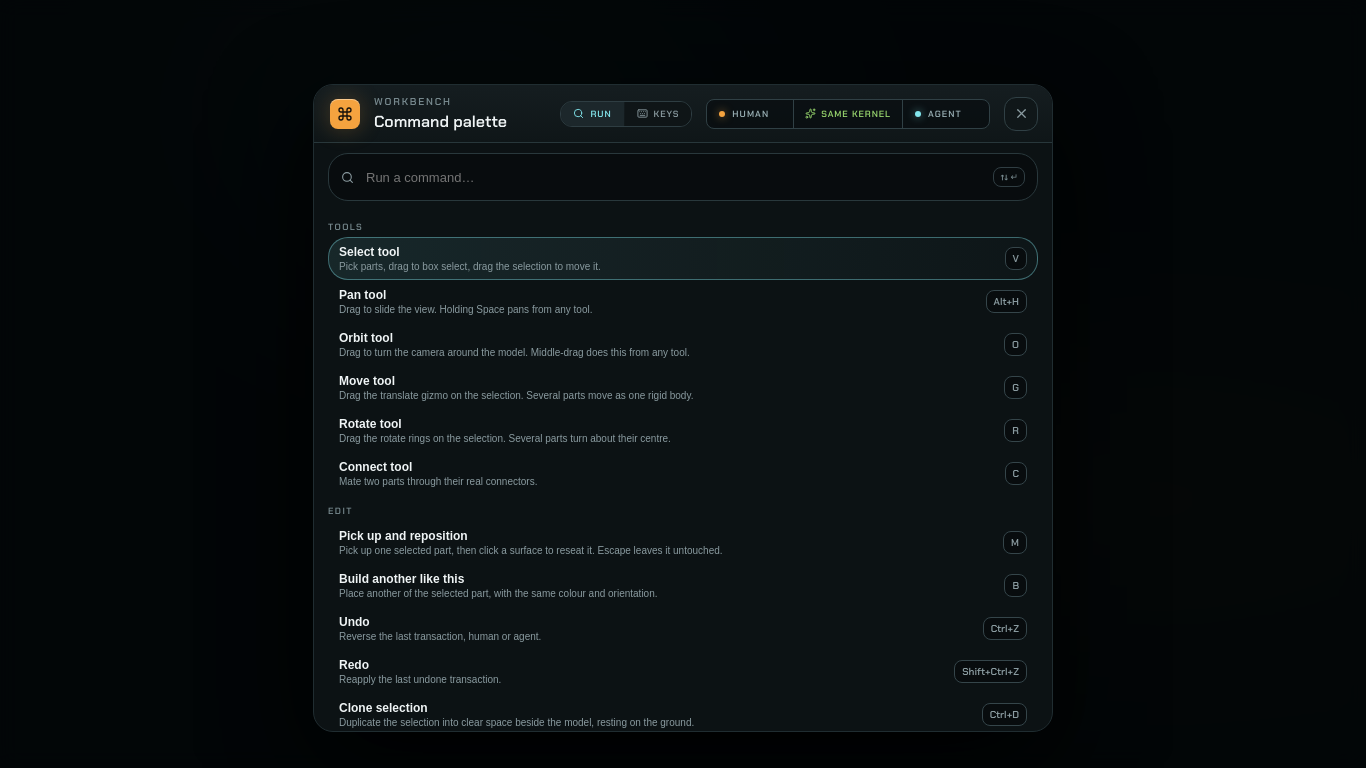
Test case: command palette › finds a shared capability by name and opens its form
This screenshot has width=1366, height=768.
Step 1. Type "linear array" into the dropdown named "Search commands" → (674, 177), box [364,168,983,186]
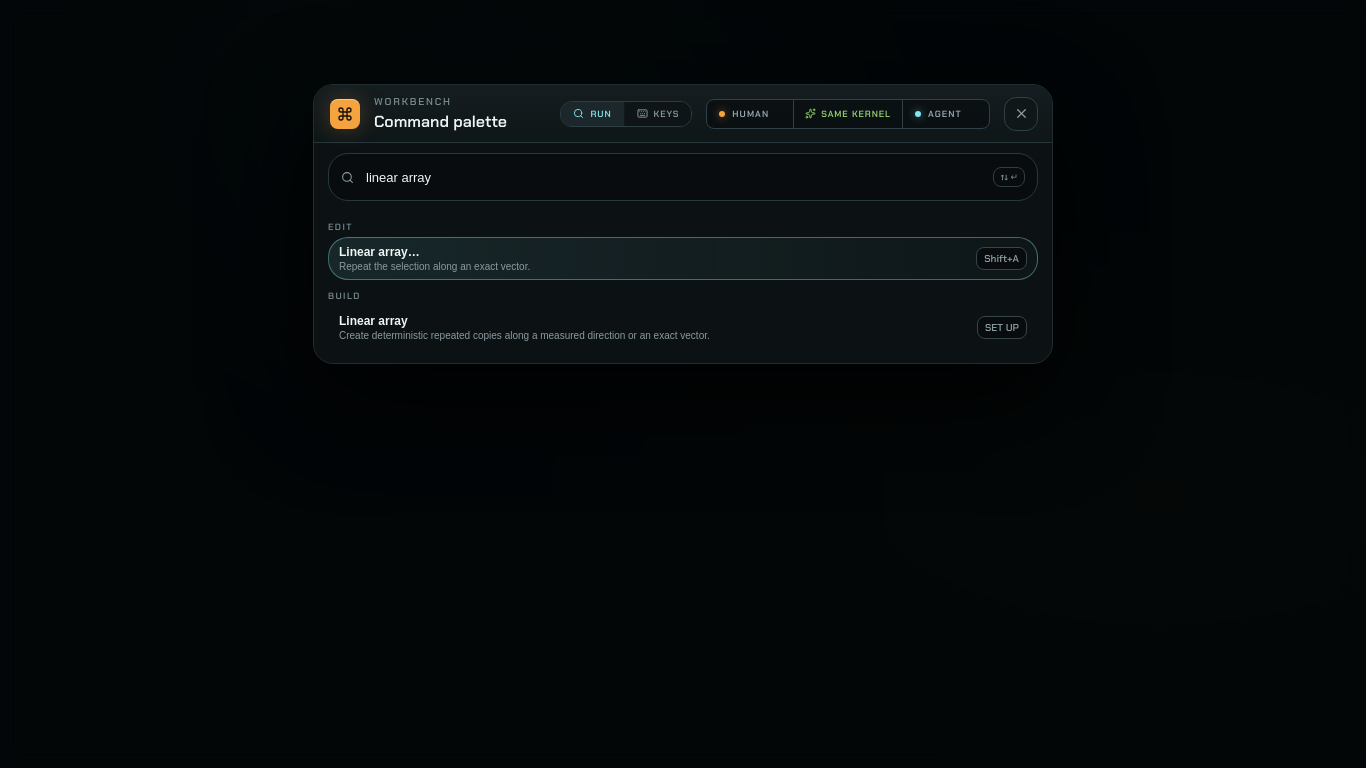
Expected: the option with aria-label "Create deterministic repeated copies along a measured direct" is shown
Step 2. Click the option with aria-label "Create deterministic repeated copies along a measured direct" → (683, 328), box [328,306,1038,349]
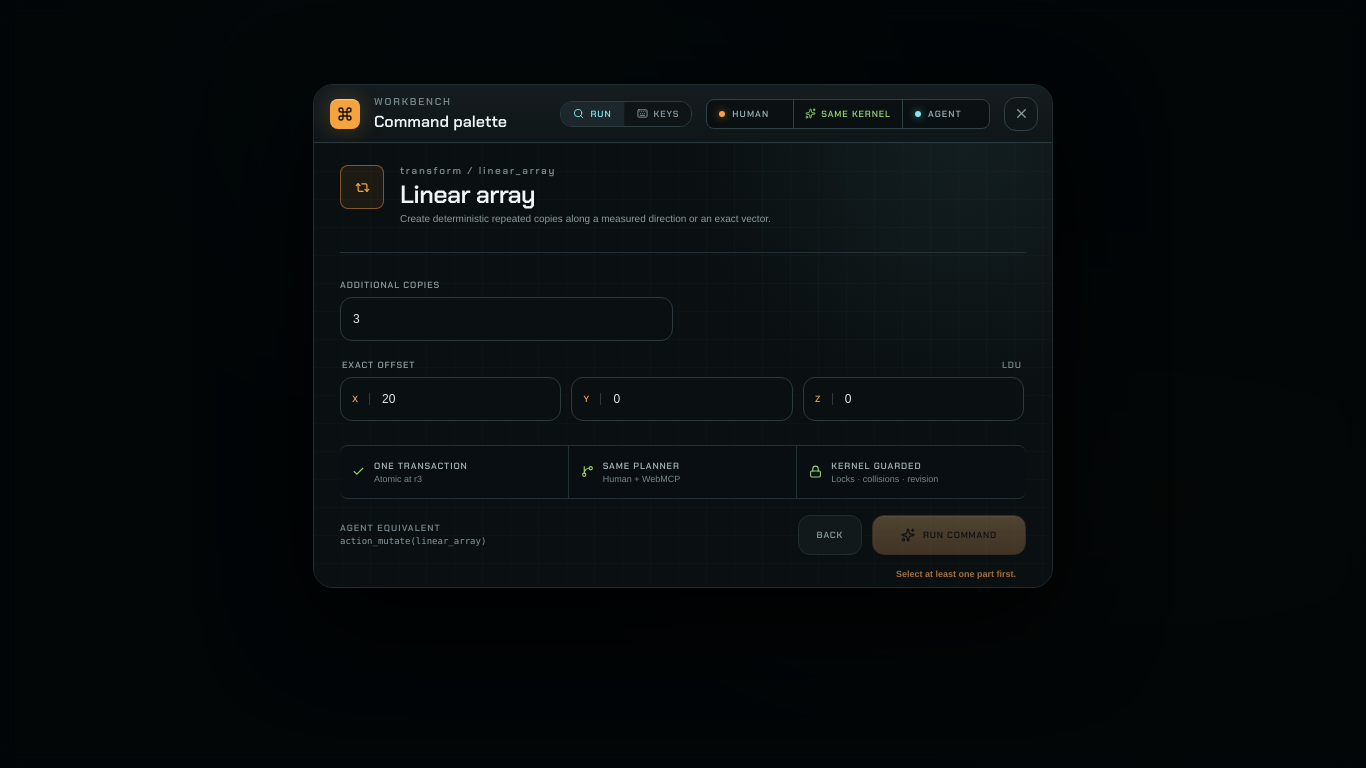
Expected: the button "RUN COMMAND" is shown, [872,514,1026,554]
Expected: the text "action_mutate(linear_array)" is shown, [340,537,486,547]
Step 3. Click the button "BACK" → (830, 534), box [798,514,862,554]
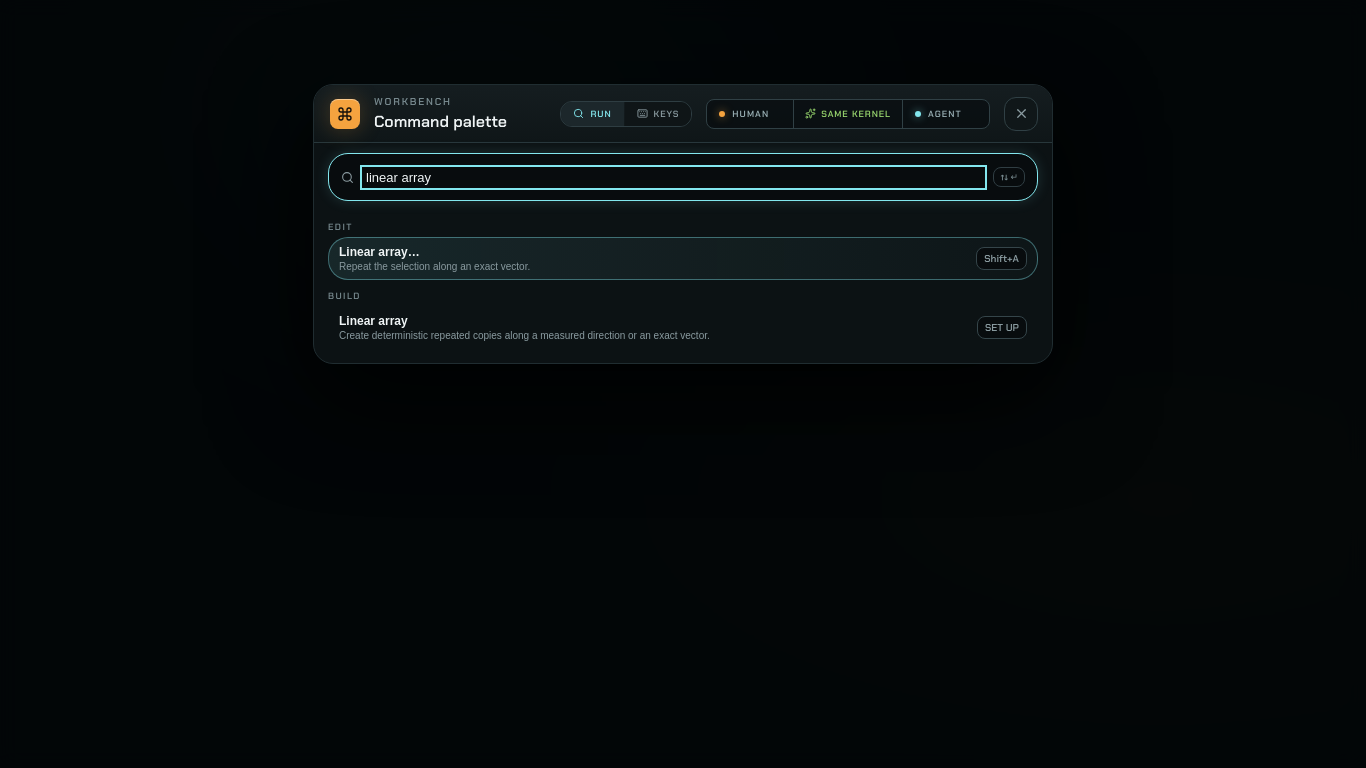
Expected: the dropdown named "Search commands" is shown, [364,168,983,186]
